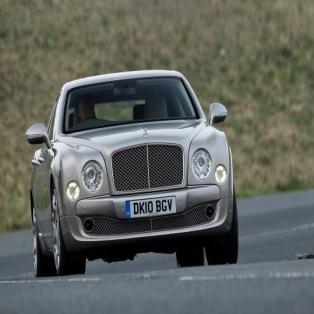Auto: (26, 67, 239, 279)
